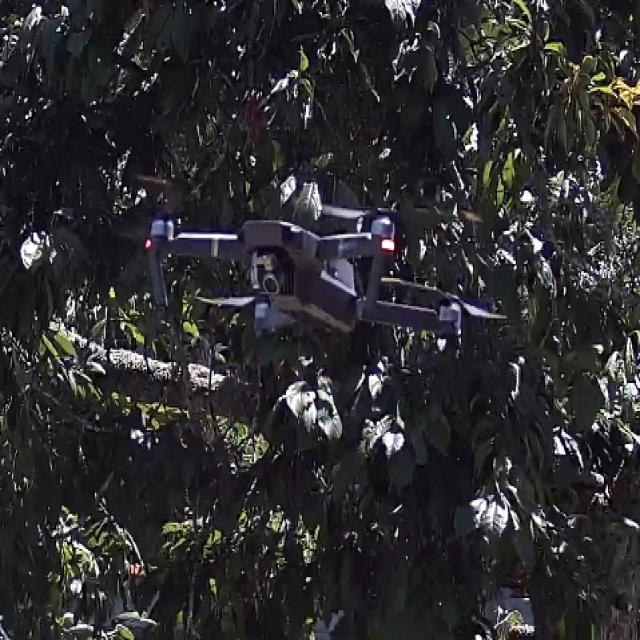drone: (85, 164, 512, 390)
